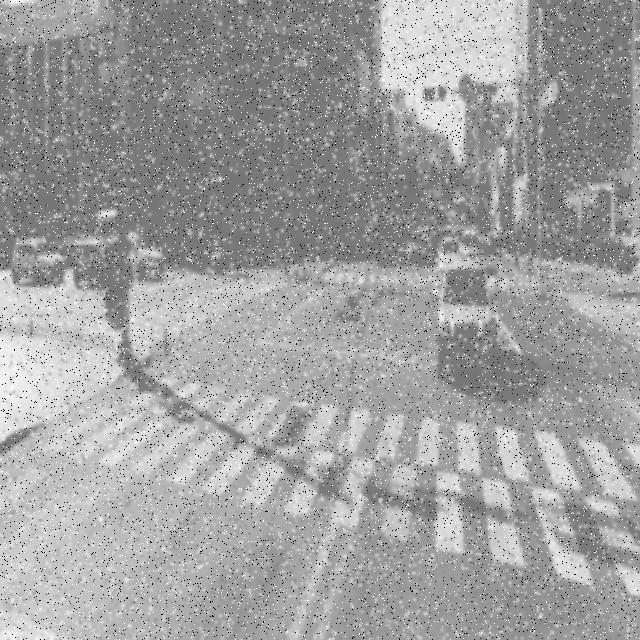Pedestrian crosswalk: (2, 367, 640, 601), (95, 261, 281, 357), (301, 254, 518, 303), (537, 285, 640, 362)
